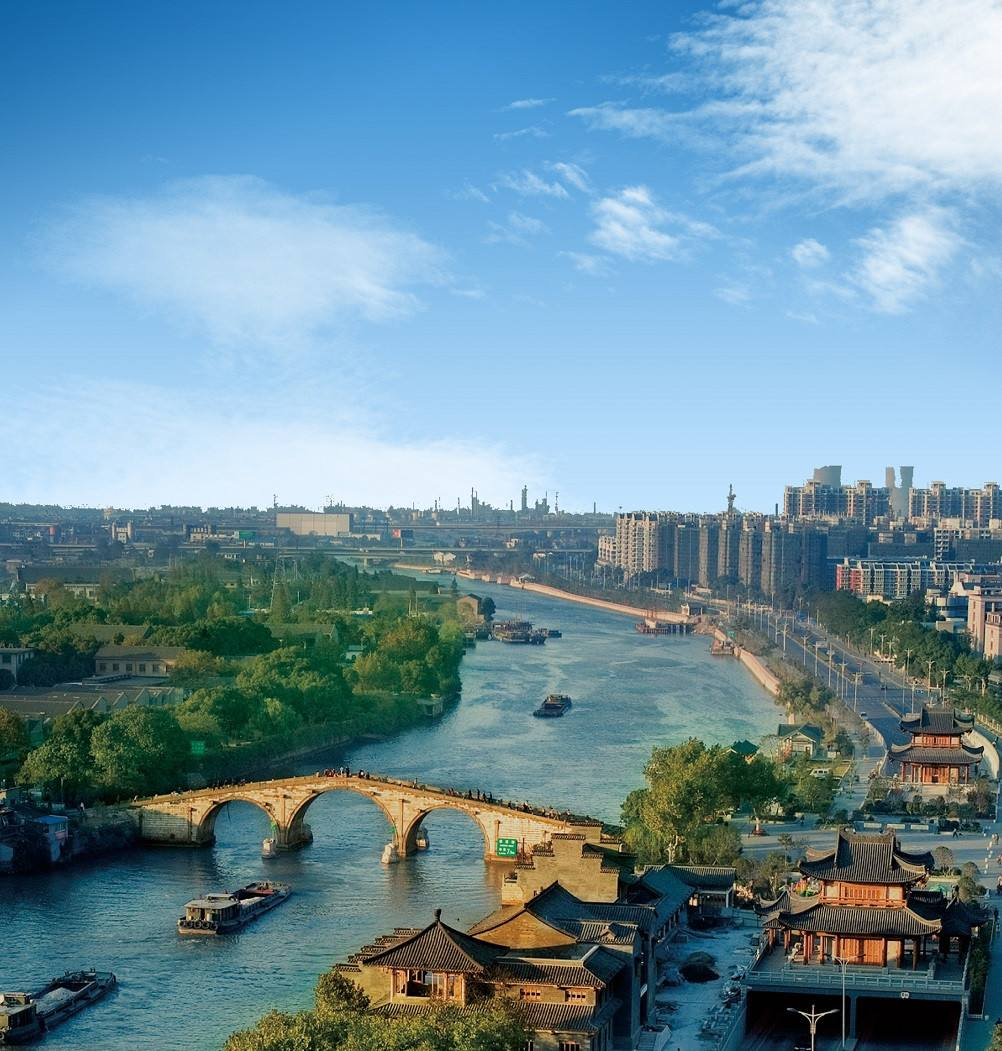boat: (1, 965, 112, 1049), (173, 876, 293, 936), (486, 615, 564, 647), (525, 691, 585, 723)
